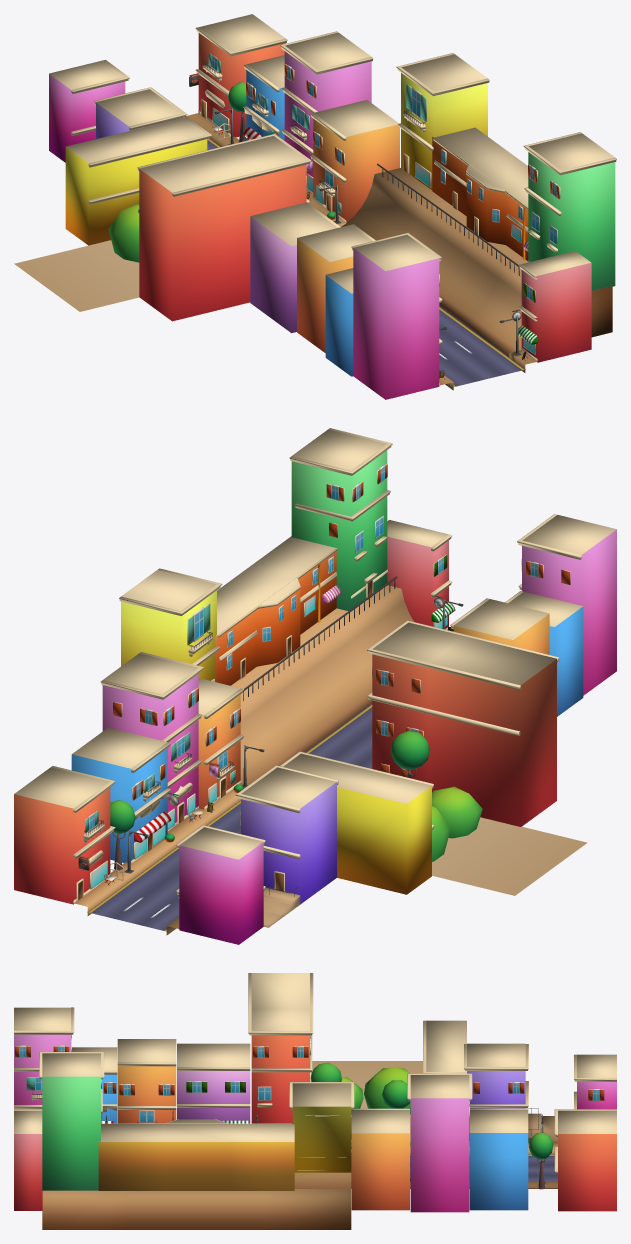
Rendered from City with lONG Slider (1).fbx.
The picture shows the model from 3 angles, top to bottom: view 1: azimuth 30°, elevation 25°; view 2: azimuth 150°, elevation 25°; view 3: azimuth 270°, elevation 25°; orthographic projection. The views are drawn at different scales.
Parts seen in each view (by area): view 1: city, side road, road; view 2: city, side road, road; view 3: city, side road, road.
Boxes of the visible parts, left/top/right/bottom form: city: left=14, top=14, right=616, bottom=399; side road: left=341, top=168, right=612, bottom=356; road: left=207, top=138, right=525, bottom=387; city: left=14, top=428, right=616, bottom=944; side road: left=231, top=585, right=413, bottom=784; road: left=87, top=703, right=372, bottom=931; city: left=14, top=973, right=616, bottom=1212; side road: left=42, top=1172, right=351, bottom=1229; road: left=351, top=1154, right=557, bottom=1181.
Size of the model in its own units: 1632 by 697 by 2407.
